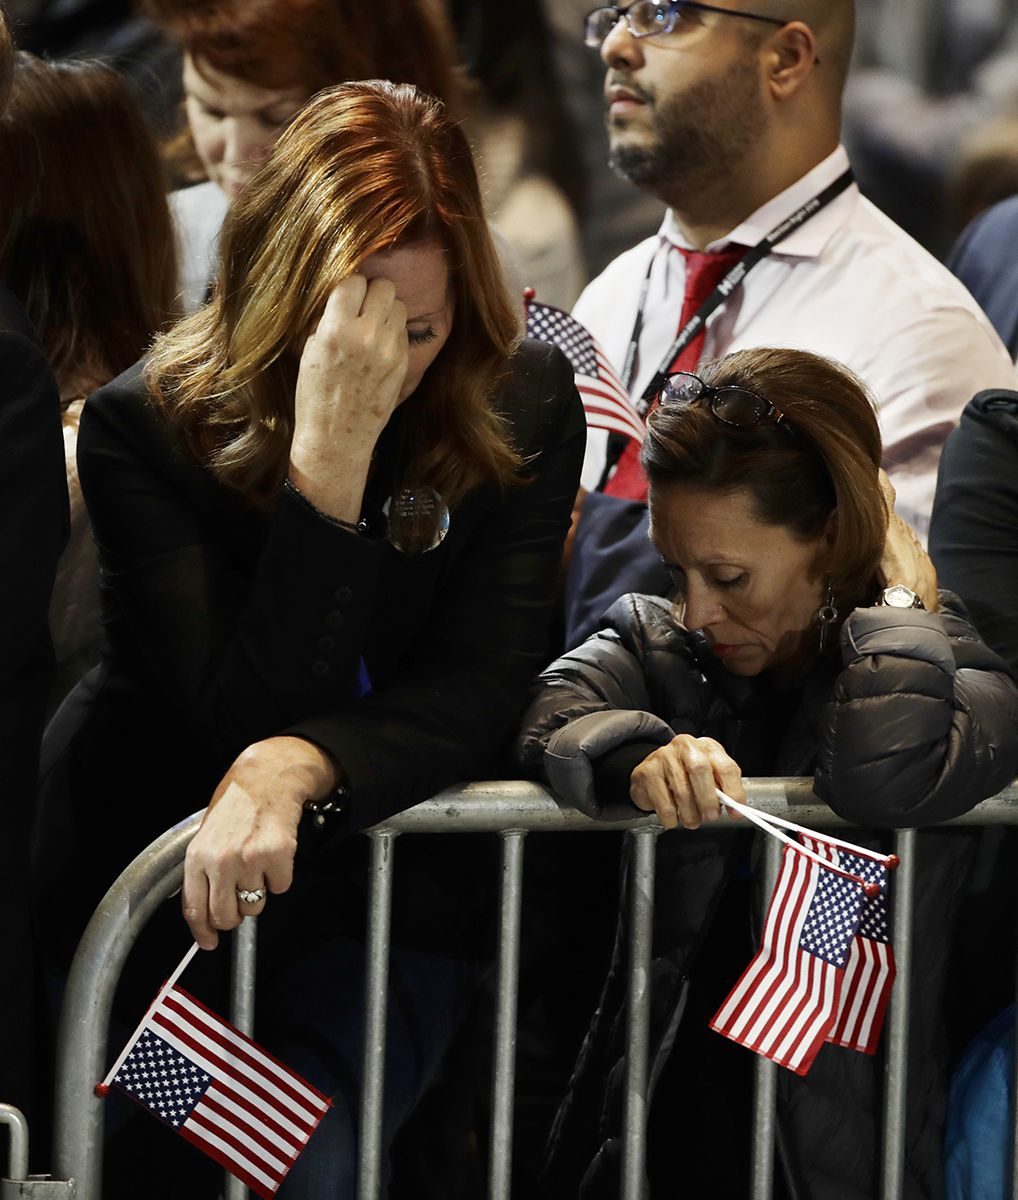sad: (635, 478, 809, 678), (304, 252, 464, 437)
